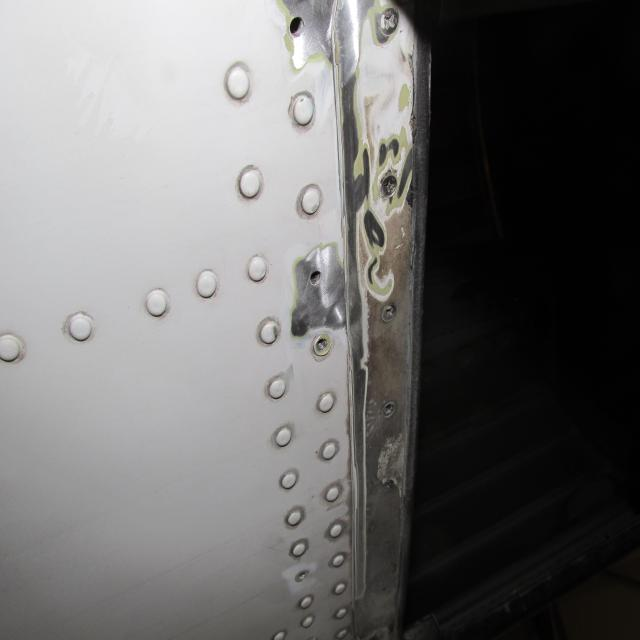Missing Fastener: (302, 253, 326, 290), (312, 324, 336, 360), (284, 8, 312, 38)
